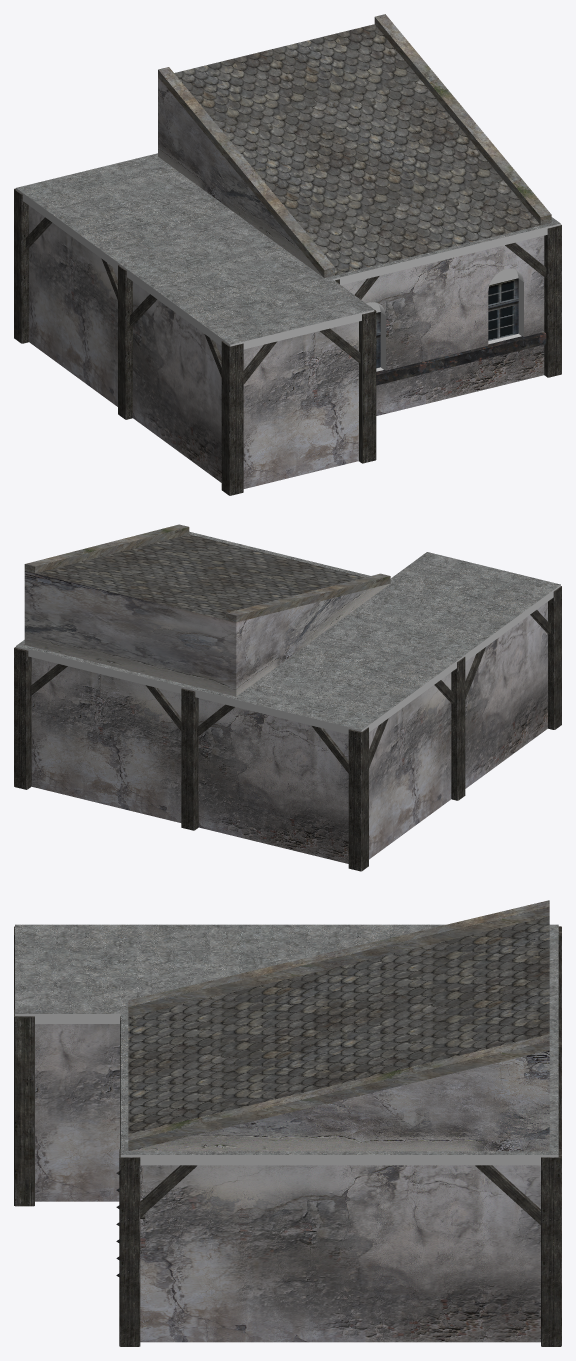
The model's file is Building_Roof_03.fbx.
The picture shows the model from 3 angles, top to bottom: view 1: azimuth 30°, elevation 25°; view 2: azimuth 150°, elevation 25°; view 3: azimuth 270°, elevation 25°; orthographic projection. The views are drawn at different scales.
Visible parts, largest first — view 1: Building_Roof_03; view 2: Building_Roof_03; view 3: Building_Roof_03.
Part boxes in pixels (<box>): Building_Roof_03: <box>14,14,561,495</box>; Building_Roof_03: <box>14,524,561,871</box>; Building_Roof_03: <box>14,900,561,1346</box>.
Size of the model in its own units: 520 by 316 by 520.
